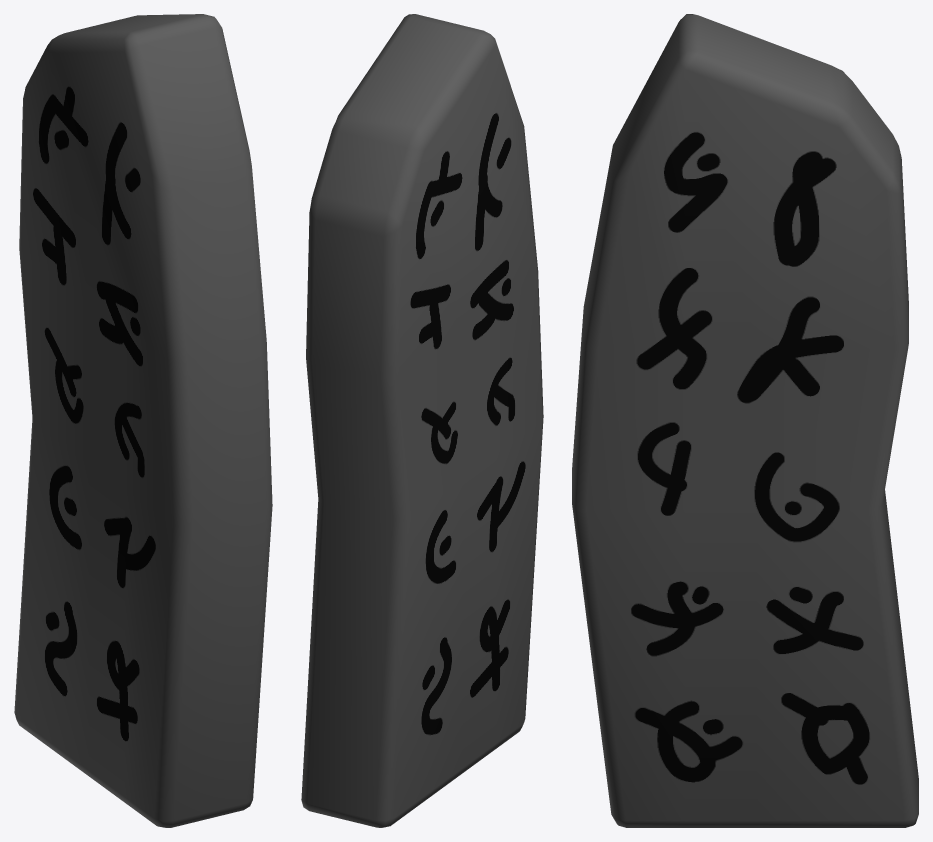
Rendered from stone 5.fbx.
3 views of the same model, side by side, from view 1: azimuth 30°, elevation 25°; view 2: azimuth 150°, elevation 25°; view 3: azimuth 270°, elevation 25° (orthographic). The views are drawn at different scales.
Parts seen in each view (by area): view 1: stone 5; view 2: stone 5; view 3: stone 5.
Part boxes in pixels (<box>): stone 5: <box>14,14,272,827</box>; stone 5: <box>301,14,543,827</box>; stone 5: <box>572,14,918,827</box>.
Size of the model in its own units: 78.79 by 595 by 241.
